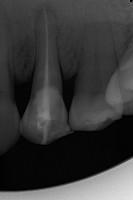Furcation Involvement: (33, 4, 56, 33)
